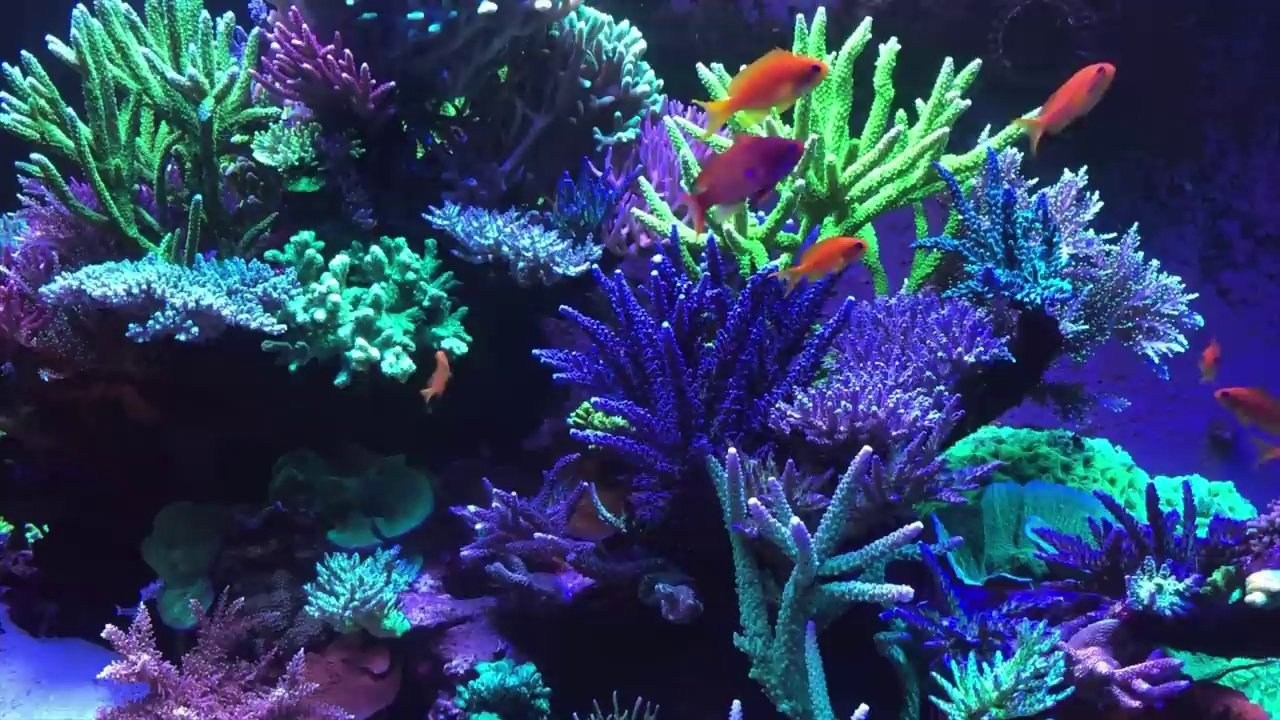fish: (672, 134, 808, 245), (692, 45, 830, 138), (1009, 61, 1118, 154), (769, 236, 867, 304), (1213, 388, 1280, 435), (418, 351, 451, 404), (1197, 334, 1222, 383)
